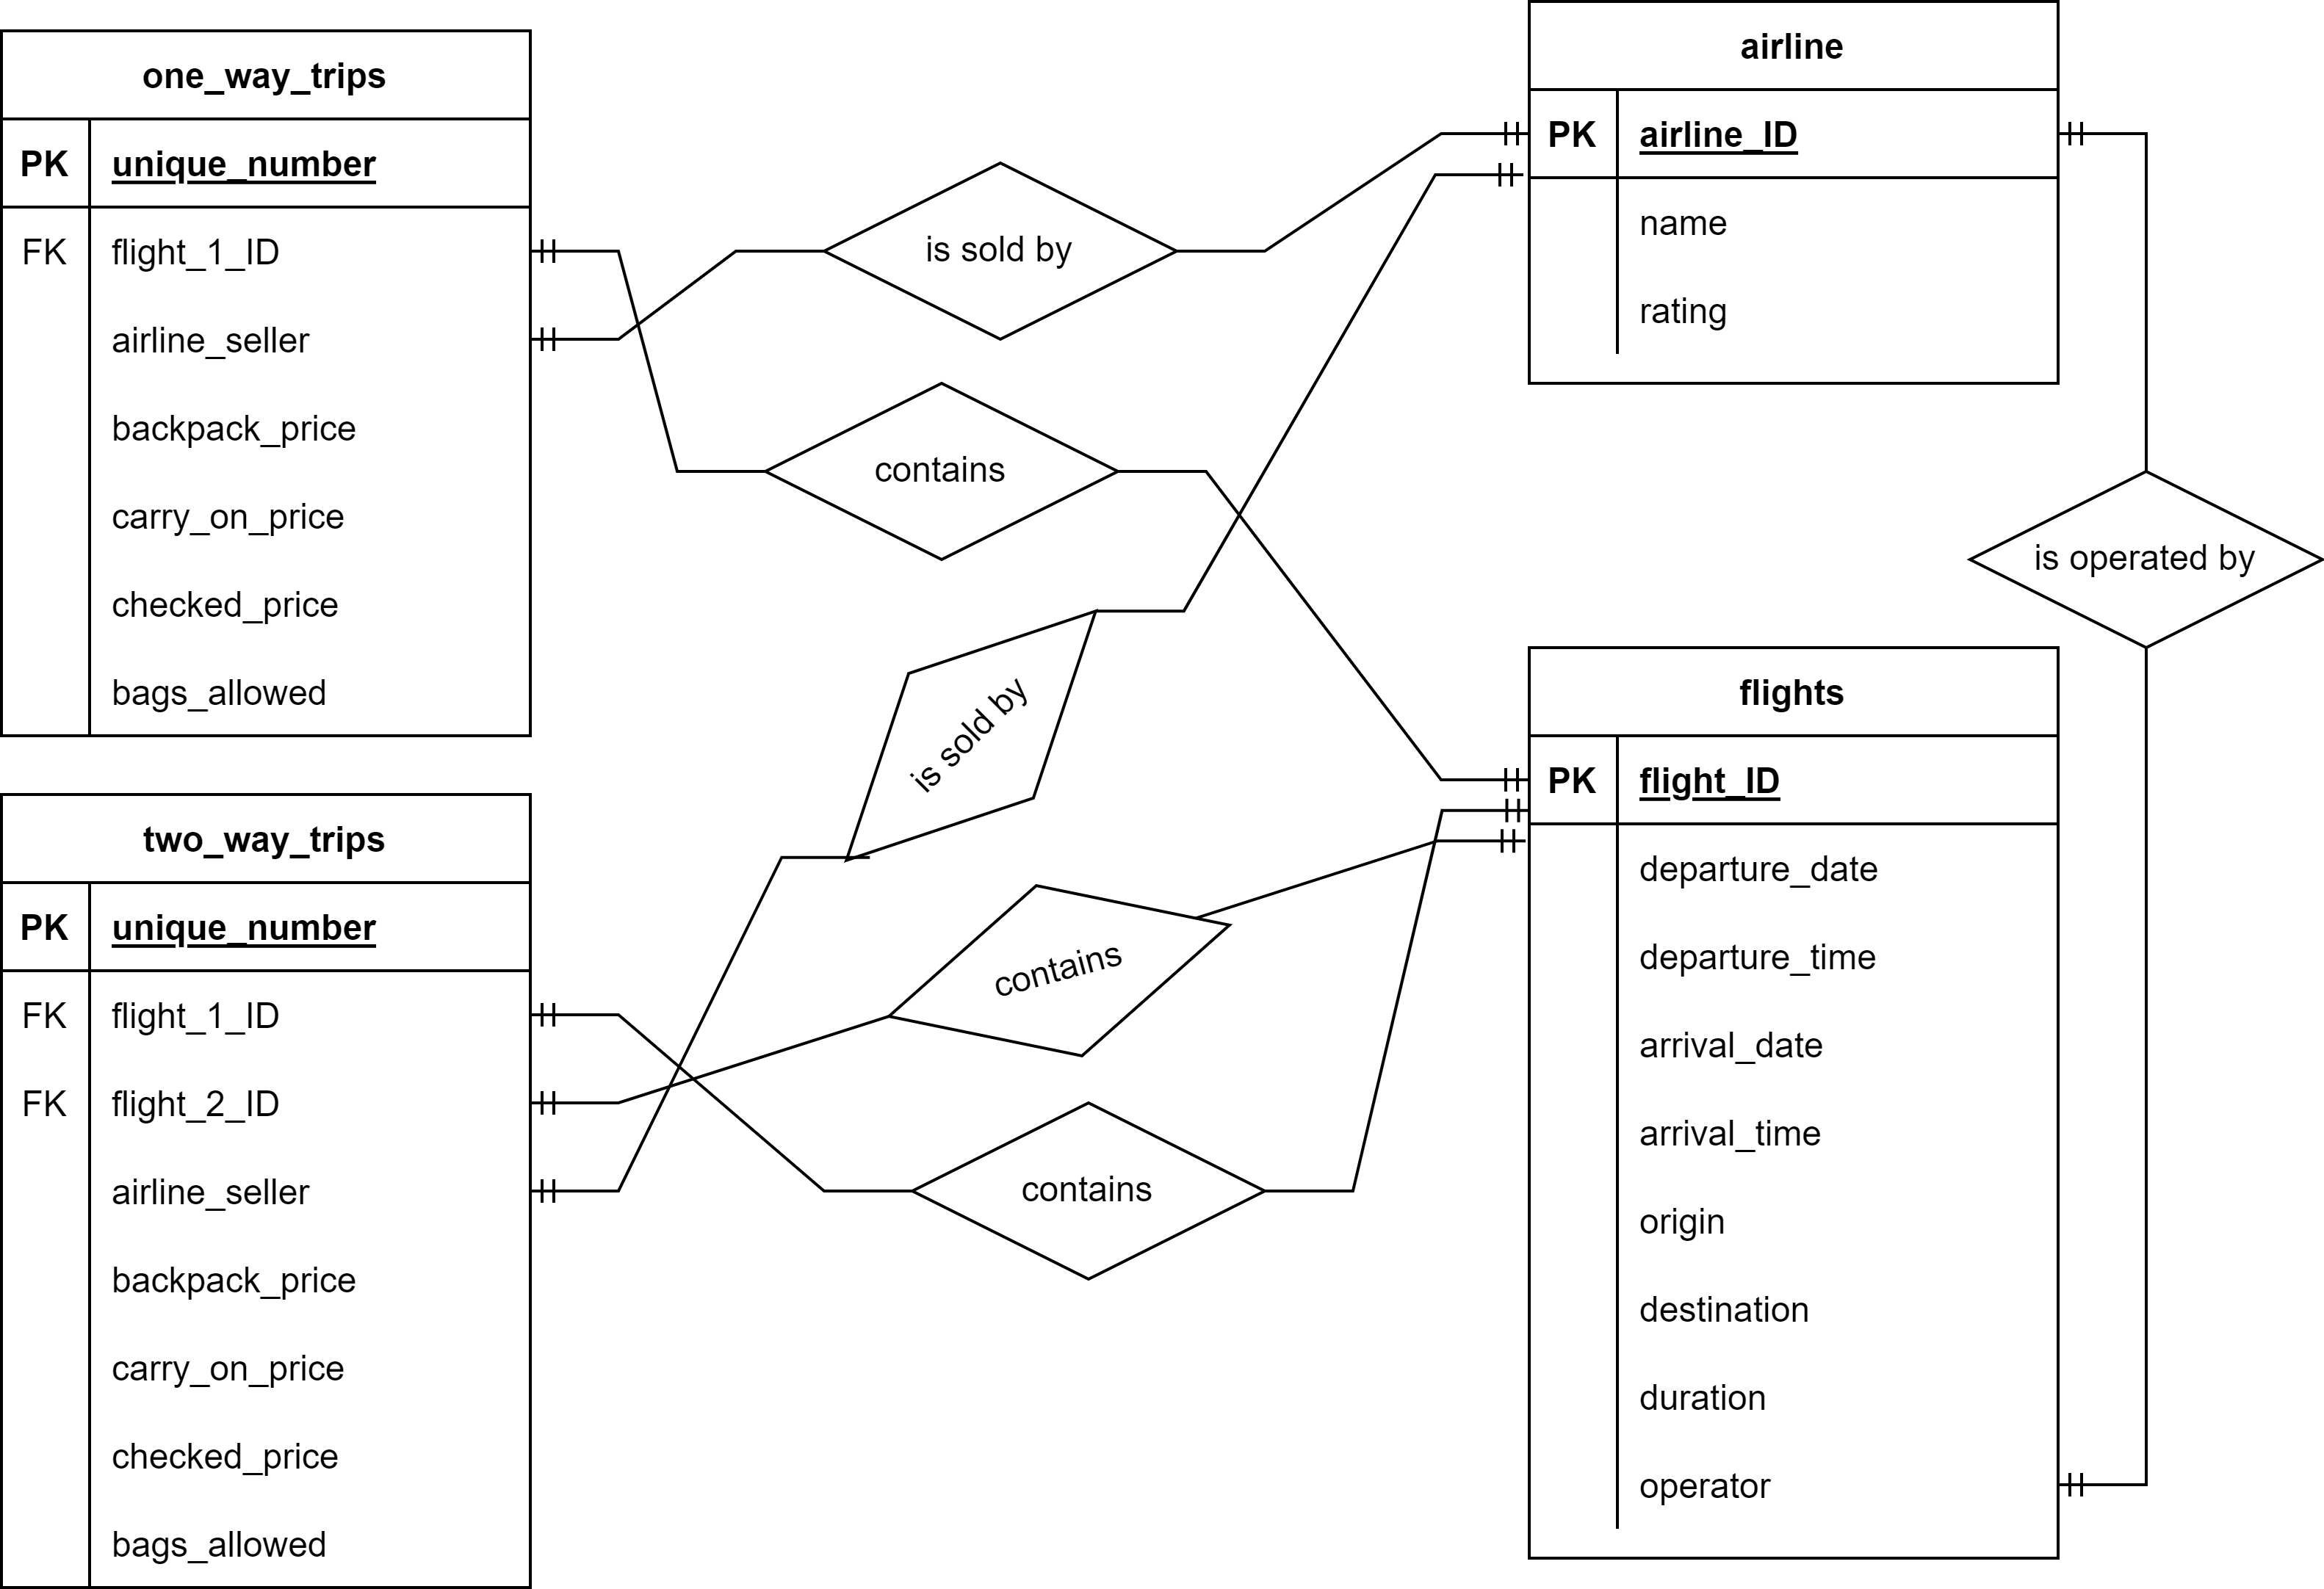entity: (1529, 646, 2061, 1559), (2, 793, 532, 1589), (0, 30, 533, 733), (1529, 0, 2057, 387)
one: (533, 992, 595, 1042), (532, 233, 592, 275), (2056, 1457, 2100, 1513), (528, 1165, 577, 1215), (2056, 113, 2098, 164), (526, 320, 585, 357), (1482, 115, 1529, 157), (1485, 157, 1528, 203), (533, 1082, 574, 1125), (1482, 757, 1529, 793), (1489, 825, 1526, 860), (1487, 794, 1528, 825)
rel: (826, 157, 1180, 341), (1973, 464, 2324, 646), (851, 606, 1093, 863), (766, 383, 1118, 560), (918, 1105, 1263, 1278), (890, 886, 1231, 1052)
